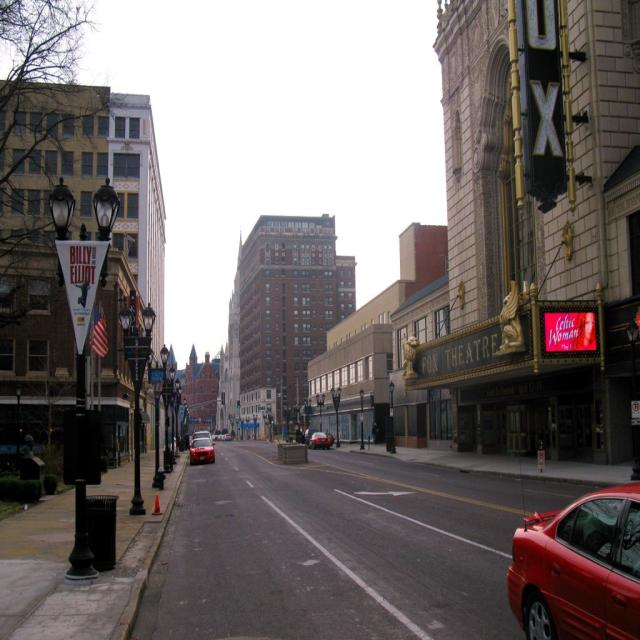car: (504, 491, 639, 638), (190, 433, 213, 458), (306, 429, 330, 448), (190, 423, 210, 437)
